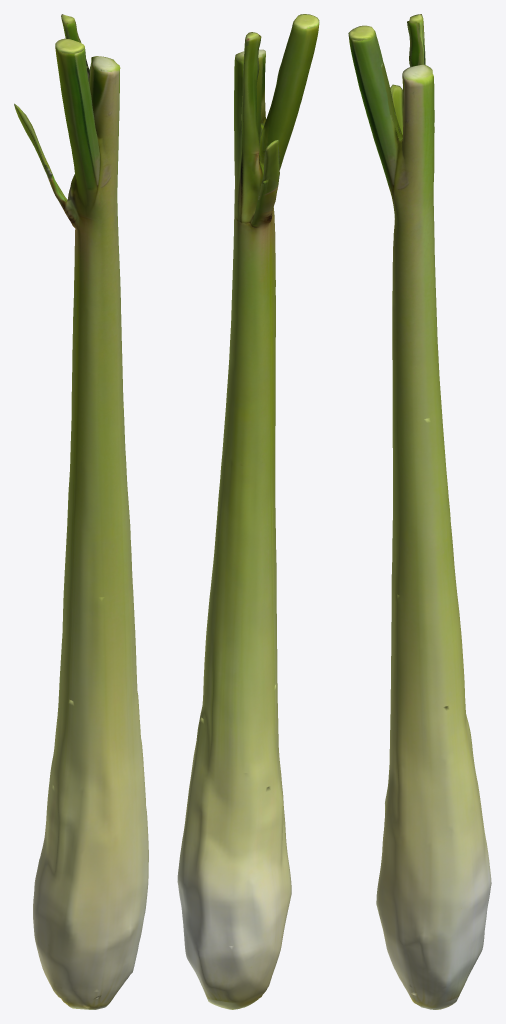
Rendered from lemongrass.glb.
The picture shows the model from 3 angles, left to right: view 1: azimuth 30°, elevation 25°; view 2: azimuth 150°, elevation 25°; view 3: azimuth 330°, elevation 25°; orthographic projection.
Visible parts, largest first — view 1: Object_2; view 2: Object_2; view 3: Object_2.
Boxes of the visible parts, x1=… form: Object_2: x1=14, y1=14, x2=148, y2=1009; Object_2: x1=177, y1=14, x2=319, y2=1009; Object_2: x1=348, y1=14, x2=491, y2=1009.
Size of the model in its own units: 0.225 by 2 by 0.2323.
1 material, 1 textured.
